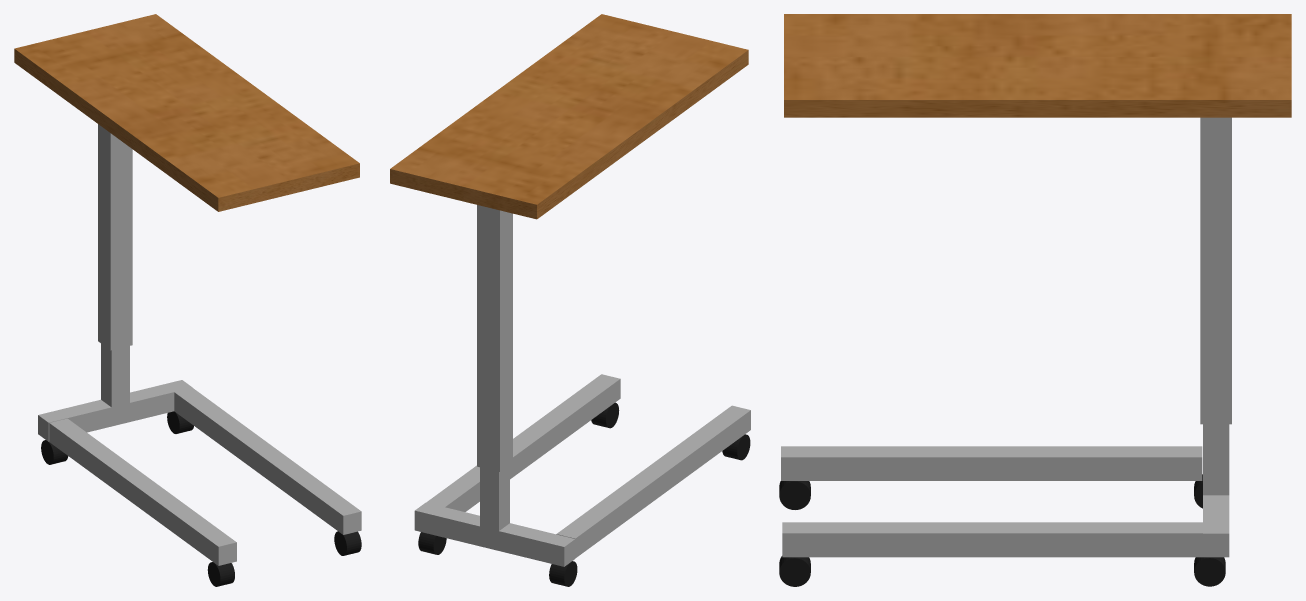
Rendered from OverBedTable.fbx.
3 views of the same model, side by side, from view 1: azimuth 30°, elevation 25°; view 2: azimuth 150°, elevation 25°; view 3: azimuth 270°, elevation 25° (orthographic). The views are drawn at different scales.
Parts seen in each view (by area): view 1: table top_wood_0, height bar_metal-chrome_0, footerBaseBarRight_metal-chrome_0, footerBaseBarLeft_metal-chrome_0, footerBaseBar_metal-chrome_0, innerHeightBar_metal-chrome_0, LeftFrontWheel_Wheels_0, RightFrontWheel_Wheels_0; view 2: table top_wood_0, height bar_metal-chrome_0, footerBaseBarRight_metal-chrome_0, footerBaseBarLeft_metal-chrome_0, footerBaseBar_metal-chrome_0, innerHeightBar_metal-chrome_0, RightBackWheel_Wheels_0, LeftBackWheel_Wheels_0, RightFrontWheel_Wheels_0; view 3: table top_wood_0, footerBaseBarLeft_metal-chrome_0, footerBaseBarRight_metal-chrome_0, height bar_metal-chrome_0, innerHeightBar_metal-chrome_0, footerBaseBar_metal-chrome_0, LeftFrontWheel_Wheels_0, LeftBackWheel_Wheels_0, RightFrontWheel_Wheels_0.
Boxes of the visible parts, box(x1,y1,x2,y2) form: table top_wood_0: box(14, 14, 359, 211); height bar_metal-chrome_0: box(98, 124, 132, 350); footerBaseBarRight_metal-chrome_0: box(49, 418, 236, 565); footerBaseBarLeft_metal-chrome_0: box(174, 387, 361, 534); footerBaseBar_metal-chrome_0: box(38, 380, 192, 441); innerHeightBar_metal-chrome_0: box(101, 343, 129, 407); LeftFrontWheel_Wheels_0: box(334, 531, 361, 555); RightFrontWheel_Wheels_0: box(207, 562, 234, 586); table top_wood_0: box(390, 14, 748, 219); height bar_metal-chrome_0: box(477, 205, 512, 471); footerBaseBarRight_metal-chrome_0: box(556, 405, 750, 558); footerBaseBarLeft_metal-chrome_0: box(426, 374, 620, 511); footerBaseBar_metal-chrome_0: box(414, 502, 575, 566); innerHeightBar_metal-chrome_0: box(480, 465, 509, 530); RightBackWheel_Wheels_0: box(549, 561, 577, 586); LeftBackWheel_Wheels_0: box(418, 532, 446, 554); RightFrontWheel_Wheels_0: box(722, 434, 750, 460); table top_wood_0: box(784, 14, 1291, 117); footerBaseBarLeft_metal-chrome_0: box(782, 522, 1203, 557); footerBaseBarRight_metal-chrome_0: box(781, 446, 1202, 480); height bar_metal-chrome_0: box(1200, 117, 1231, 424); innerHeightBar_metal-chrome_0: box(1203, 424, 1229, 495); footerBaseBar_metal-chrome_0: box(1203, 495, 1229, 557); LeftFrontWheel_Wheels_0: box(779, 556, 810, 586); LeftBackWheel_Wheels_0: box(1194, 557, 1225, 586); RightFrontWheel_Wheels_0: box(779, 481, 810, 509).
Size of the model in its own units: 40.09 by 104 by 99.18.
3 materials, 1 textured.
